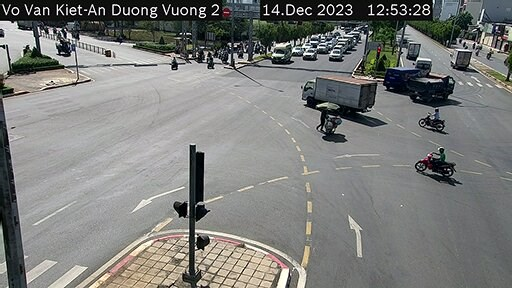car: (270, 39, 291, 66)
motorbike: (415, 141, 462, 186), (415, 108, 448, 133)
truck: (301, 74, 375, 108), (416, 68, 456, 103), (385, 64, 420, 91), (452, 45, 472, 71), (404, 41, 428, 59)
